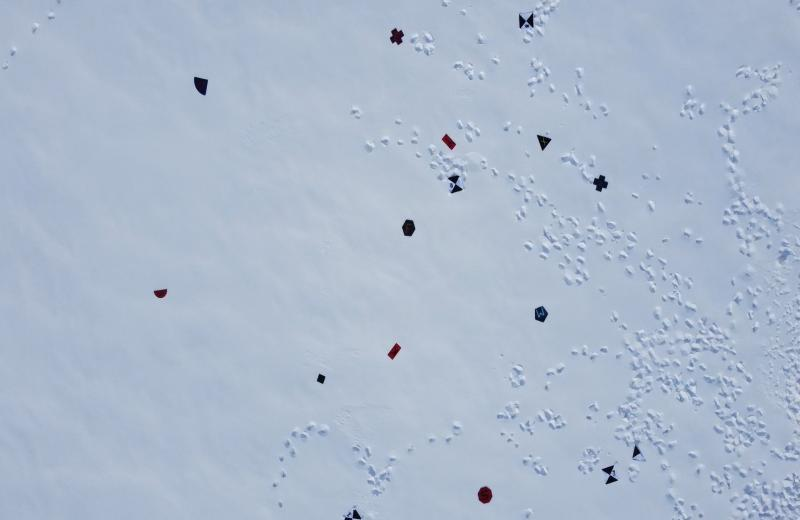Cross: (390, 28, 405, 47), (592, 175, 608, 192)
Hexagon: (401, 218, 416, 238)
Octagon: (478, 485, 494, 504)
Pentagon: (534, 305, 548, 323)
Quarter Circle: (192, 72, 208, 98)
Rectangle: (386, 342, 402, 361), (442, 132, 457, 151)
Semi Circle: (153, 288, 169, 298)
Square: (316, 373, 327, 385)
Triangle: (536, 133, 552, 153)
